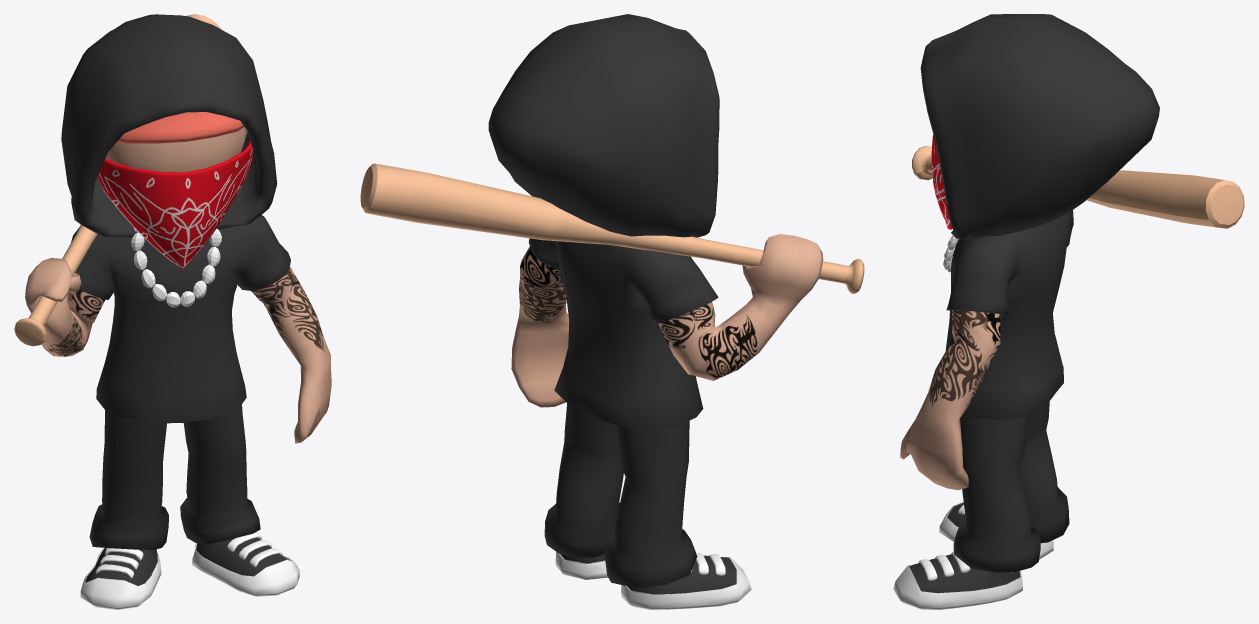
The model's file is STICKMAN_CAGOULE_3.fbx.
3 renders of one model, left to right at view 1: azimuth 30°, elevation 25°; view 2: azimuth 150°, elevation 25°; view 3: azimuth 270°, elevation 25°, orthographic. The views are drawn at different scales.
Visible parts, largest first — view 1: T_Shirt, Hoodie, Pants, Skin, Bandana_2, Lacets, Shoes, Bandana, Bat, Chains; view 2: Hoodie, T_Shirt, Pants, Skin, Bat, Lacets, Shoes; view 3: Hoodie, T_Shirt, Pants, Skin, Bat, Lacets, Shoes, Bandana_2.
Part boxes in pixels (bbox=[...]): T_Shirt: bbox=[71, 215, 290, 423]; Hoodie: bbox=[61, 14, 277, 237]; Pants: bbox=[89, 404, 260, 549]; Skin: bbox=[25, 127, 331, 443]; Bandana_2: bbox=[97, 140, 253, 269]; Lacets: bbox=[80, 532, 299, 609]; Shoes: bbox=[85, 537, 287, 585]; Bandana: bbox=[116, 112, 244, 143]; Bat: bbox=[14, 14, 220, 346]; Chains: bbox=[131, 227, 221, 307]; Hoodie: bbox=[488, 14, 719, 237]; T_Shirt: bbox=[528, 238, 718, 430]; Pants: bbox=[544, 403, 697, 587]; Skin: bbox=[511, 234, 823, 407]; Bat: bbox=[360, 163, 864, 293]; Lacets: bbox=[555, 551, 751, 609]; Shoes: bbox=[560, 554, 736, 594]; Hoodie: bbox=[920, 14, 1159, 240]; T_Shirt: bbox=[945, 210, 1073, 419]; Pants: bbox=[953, 401, 1069, 572]; Skin: bbox=[900, 310, 1011, 572]; Bat: bbox=[912, 146, 1244, 228]; Lacets: bbox=[893, 502, 1053, 609]; Shoes: bbox=[909, 503, 1020, 593]; Bandana_2: bbox=[931, 135, 952, 229].
Bounding box in the file's own units: 1.68 × 2.55 × 1.47.
